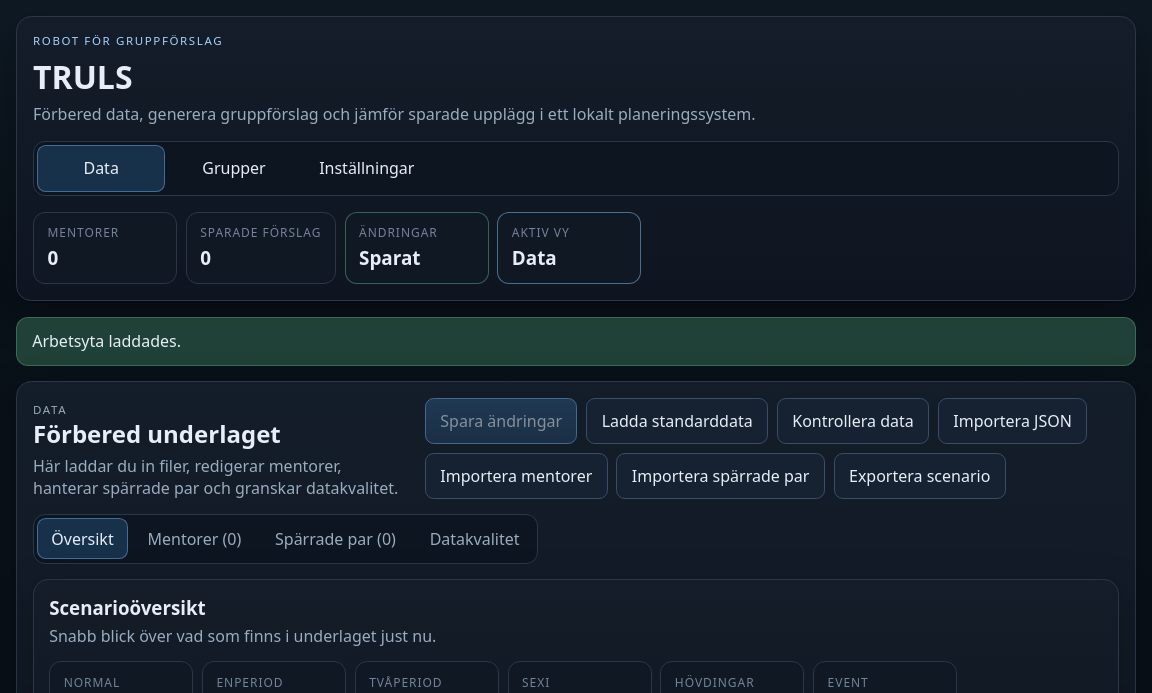
Scenario: App › saves a generated proposal to local history
Check: the text "Arbetsyta laddades." is shown, box [16, 317, 1136, 366]
Click the button "Grupper" at (234, 168), box [170, 145, 298, 192]
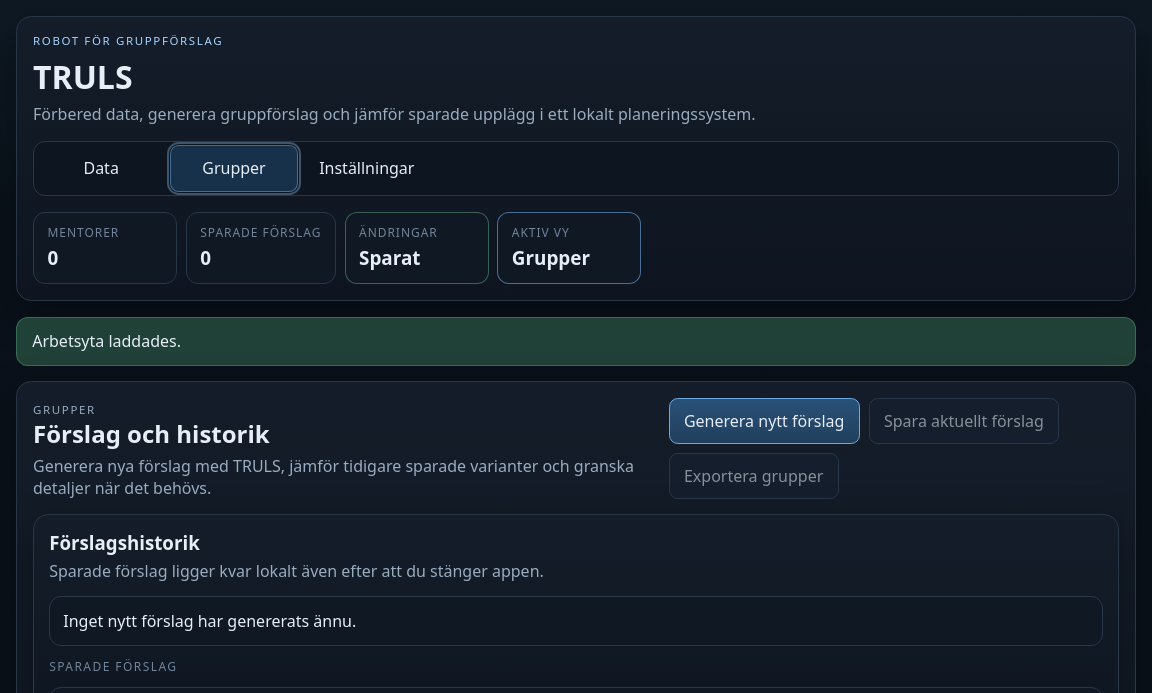
Click the button "Generera nytt förslag" at (764, 421), box [668, 398, 860, 444]
(page scrolled)
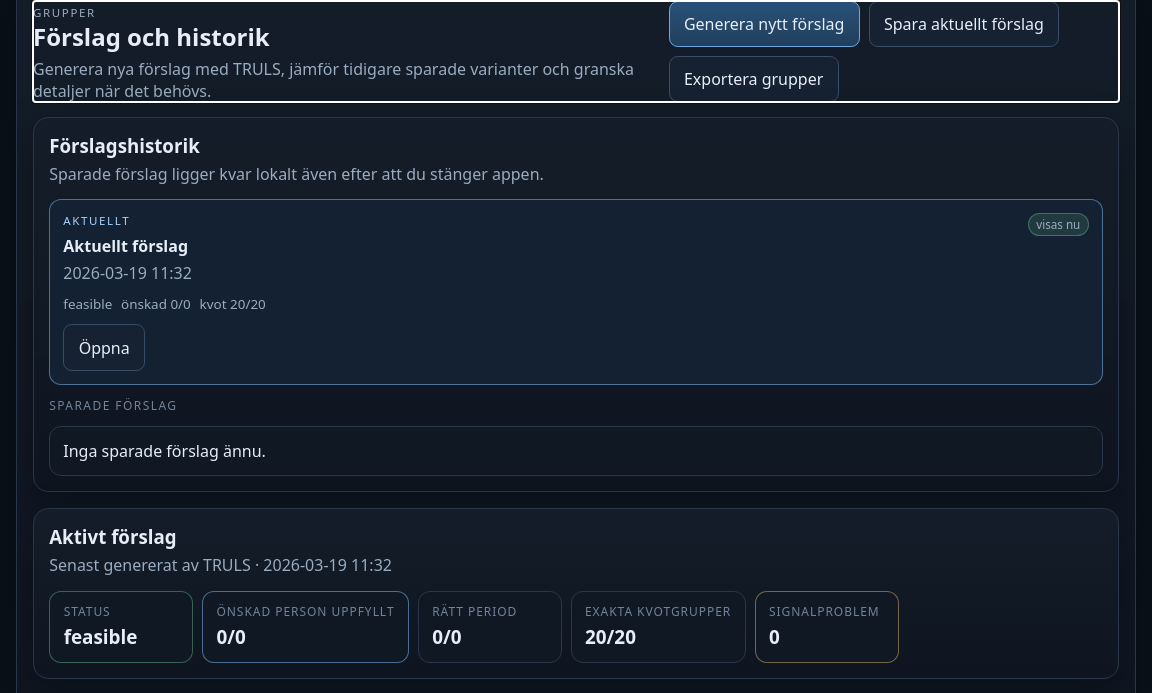
Check: the text "Aktuellt förslag" is shown, box [63, 235, 188, 257]
Click the button "Spara aktuellt förslag" at (964, 24), box [869, 1, 1059, 47]
(page scrolled)
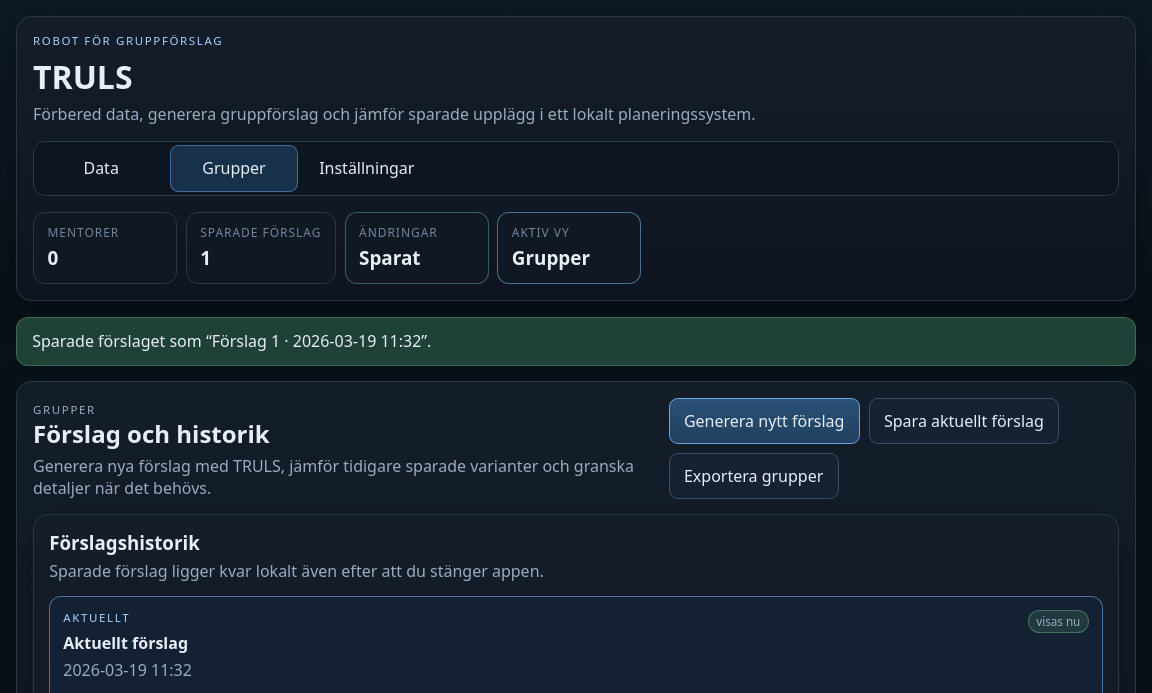
Check: the text "Sparade förslag" is shown, box [200, 224, 321, 241]
Check: the text "Sparade förslaget som “Förslag 1 · 2026-03-19 11:32”." is shown, box [16, 317, 1136, 366]
